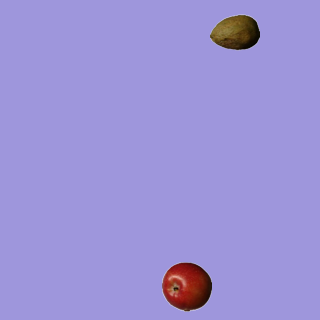Apple Braeburn: (161, 261, 211, 311)
Papaya: (209, 7, 259, 57)
